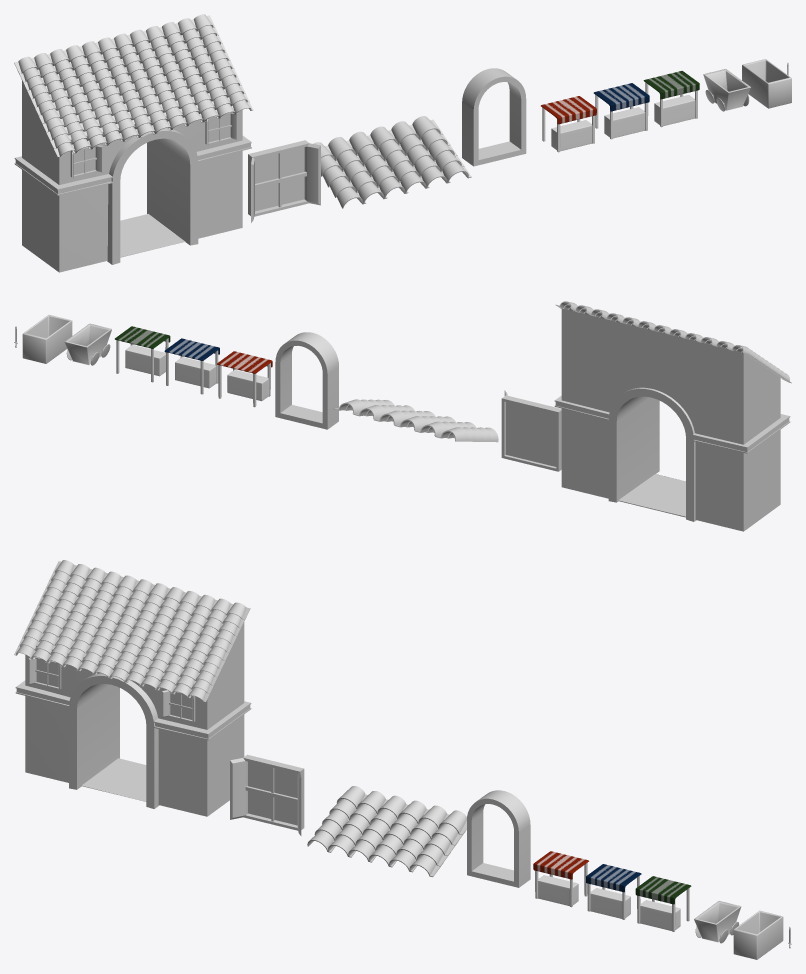
Rendered from Escenario_Medieval.fbx.
The picture shows the model from 3 angles, top to bottom: view 1: azimuth 30°, elevation 25°; view 2: azimuth 150°, elevation 25°; view 3: azimuth 330°, elevation 25°; orthographic projection.
Visible parts, largest first — view 1: Tejado(Puerta), Puerta, Arco(Puerta), Tejado, Arco, Ventana, Ventana_Dentro, Caja, Carrito, Mesa(Tienda_Medieval), Mesa(Tienda_Medieval2), Mesa(Tienda_Medieval3) (+7 smaller); view 2: Puerta, Arco(Puerta), Arco, Tejado, Ventana_Dentro, Tejado(Puerta), Caja, Carrito, Ventana, Mesa(Tienda_Medieval), Mesa(Tienda_Medieval2), Mesa(Tienda_Medieval3) (+3 smaller); view 3: Tejado(Puerta), Puerta, Arco(Puerta), Tejado, Arco, Ventana, Ventana_Dentro, Caja, Carrito, Mesa(Tienda_Medieval3), Mesa(Tienda_Medieval), Mesa(Tienda_Medieval2) (+3 smaller).
Part boxes in pixels (x1,y1,x2,y2): Tejado(Puerta): (14,14,253,157); Puerta: (22,66,242,272); Arco(Puerta): (14,128,251,264); Tejado: (313,116,471,208); Arco: (462,68,526,166); Ventana: (248,140,320,222); Ventana_Dentro: (255,147,304,211); Caja: (742,59,791,108); Carrito: (703,69,750,111); Mesa(Tienda_Medieval): (542,107,594,152); Mesa(Tienda_Medieval2): (595,95,647,139); Mesa(Tienda_Medieval3): (645,82,697,127); Puerta: (561,308,780,531); Arco(Puerta): (554,387,790,521); Arco: (275,332,338,429); Tejado: (333,399,498,442); Ventana_Dentro: (506,402,556,466); Tejado(Puerta): (555,301,791,383); Caja: (22,315,72,363); Carrito: (64,323,111,365); Ventana: (501,390,561,471); Mesa(Tienda_Medieval): (218,363,270,407); Mesa(Tienda_Medieval2): (166,350,218,394); Mesa(Tienda_Medieval3): (116,338,168,382); Tejado(Puerta): (14,560,250,702); Puerta: (25,576,244,816); Arco(Puerta): (15,673,251,808); Tejado: (307,786,466,876); Arco: (467,790,530,887); Ventana: (230,754,304,835); Ventana_Dentro: (248,761,297,825); Caja: (733,910,783,959); Carrito: (694,901,741,943); Mesa(Tienda_Medieval3): (637,888,689,931); Mesa(Tienda_Medieval): (535,863,587,907); Mesa(Tienda_Medieval2): (587,875,639,919).
Size of the model in its own units: 2643 by 664 by 292.
